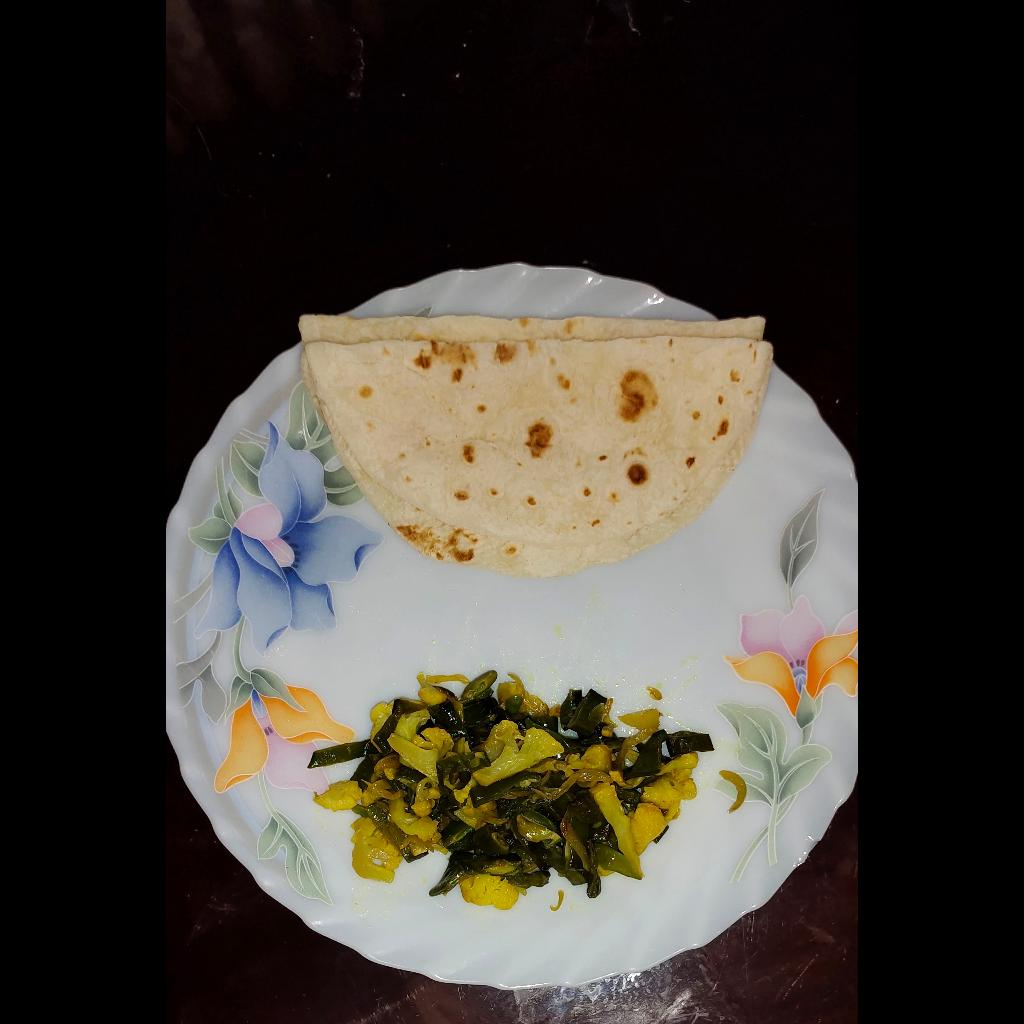ruti: (298, 311, 778, 578)
vegetable: (311, 672, 724, 910)
